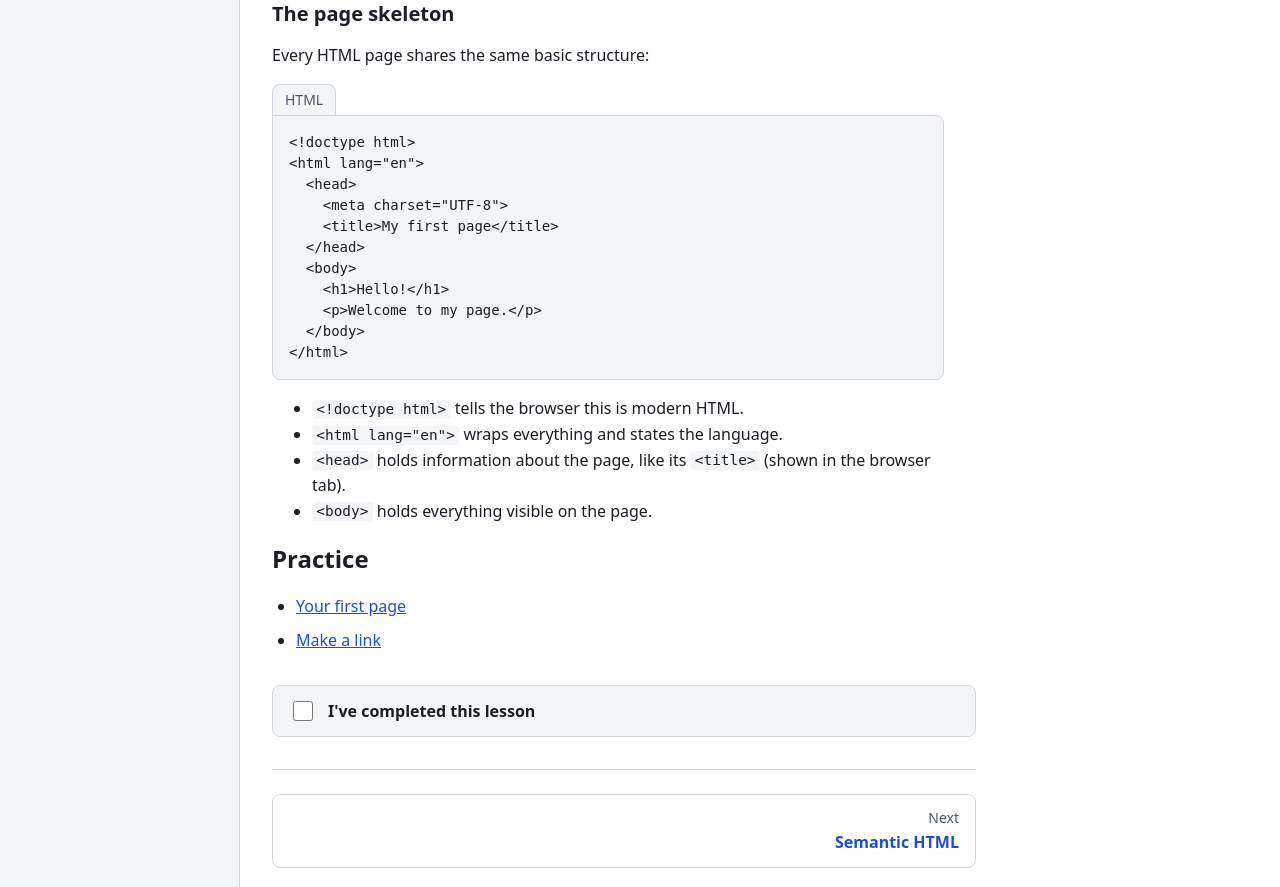
dashboard for a learner partway through › remembers the last lesson opened and offers to continue there
(page scrolled)
Click the checkbox labelled "I've completed this lesson" at (303, 712), box left=293, top=702, right=313, bottom=722
(page scrolled)
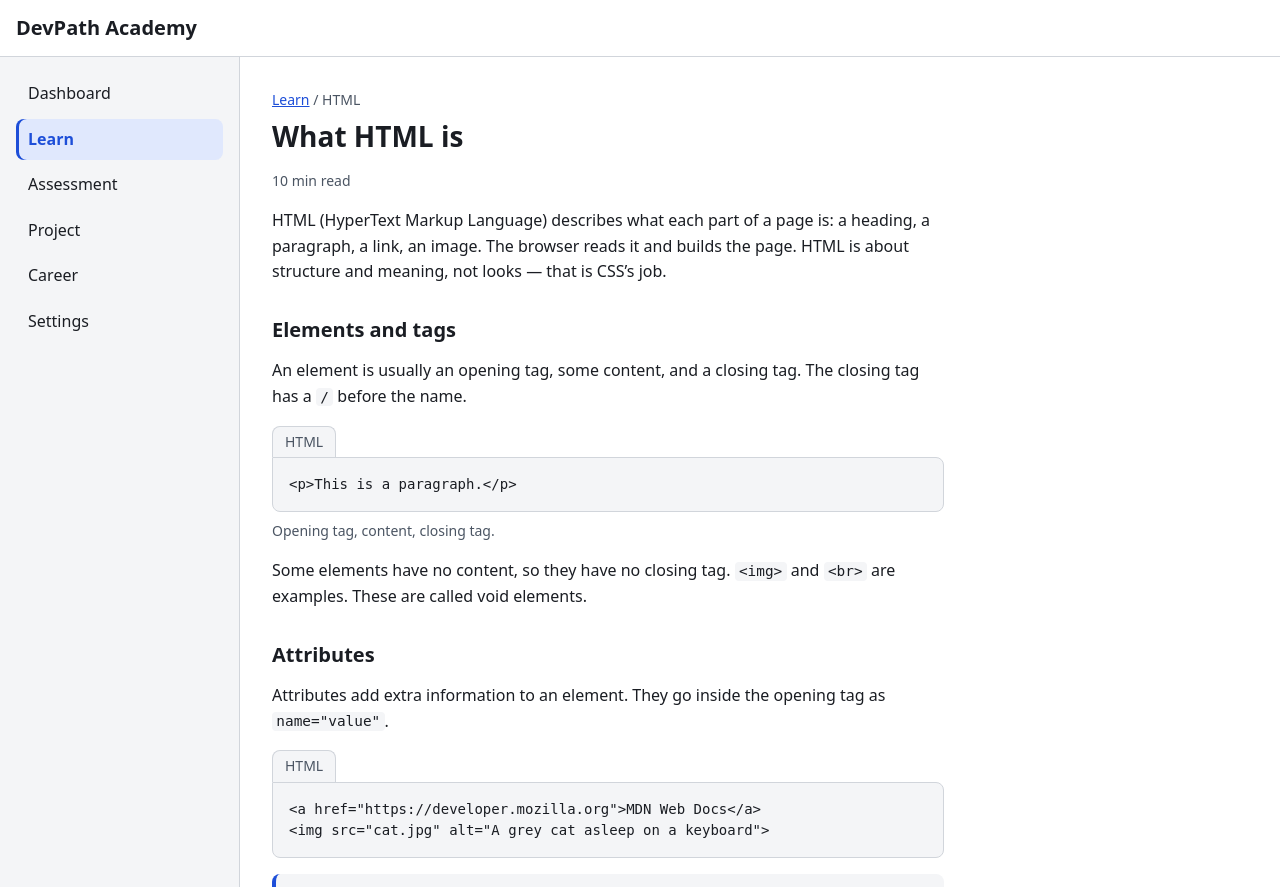
Click the link "Dashboard" at (69, 93), box left=28, top=82, right=111, bottom=104
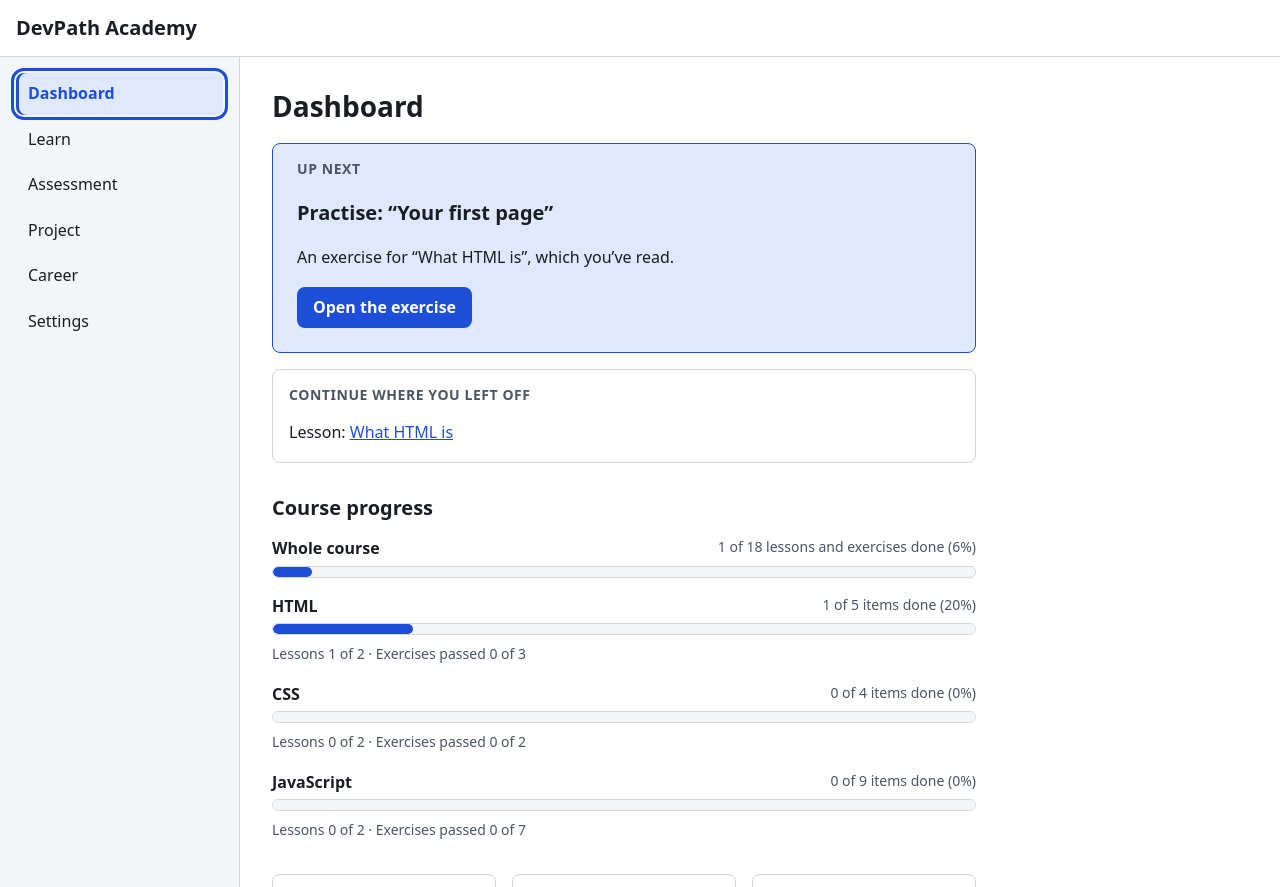
Expected: the text "Lessons 1 of 2 · Exercises passed 0 of 3" is shown, left=272, top=644, right=526, bottom=663
